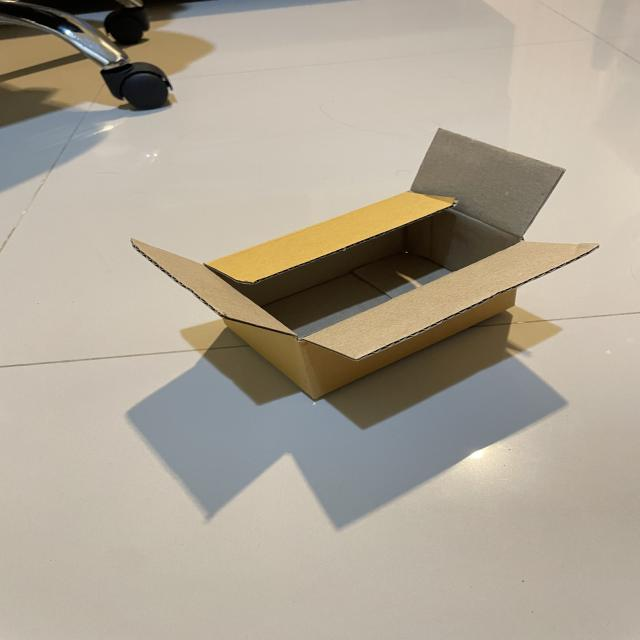box: (131, 127, 599, 402)
opened: (131, 128, 600, 362)
